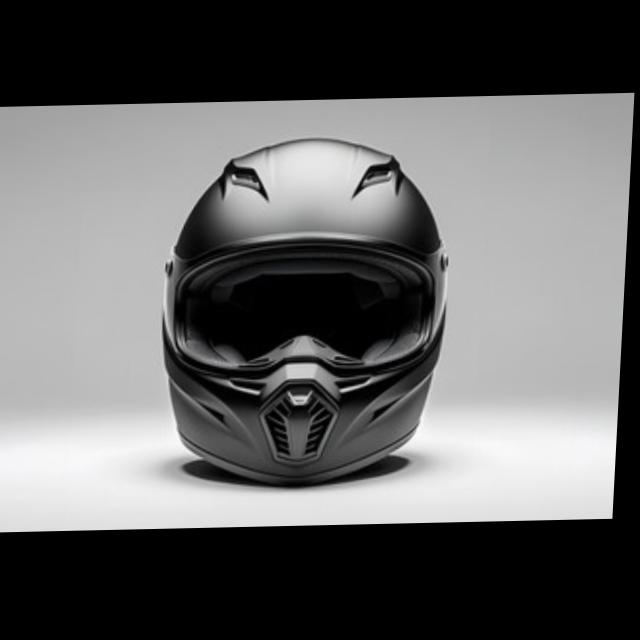motorcycle-helmets: (144, 132, 461, 496)
